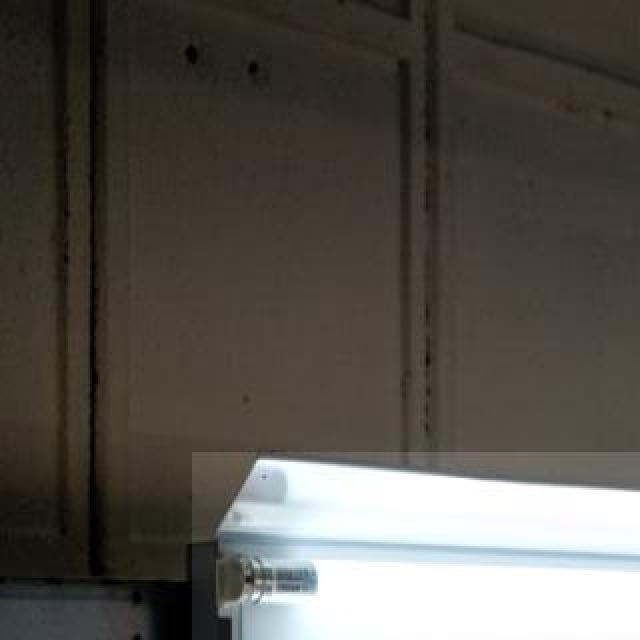fluorescent tube: (180, 540, 640, 636)
